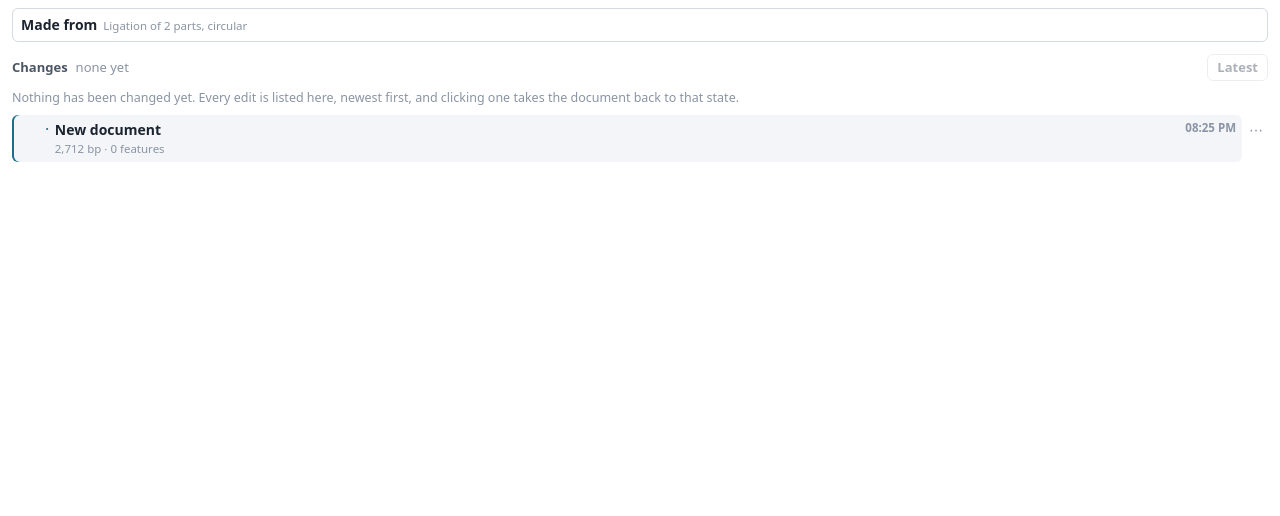
it: Made from, in the History tab (#67) › draws the product, its fragments and the documents they were cut from, level by level
Expected: the heading "Made from Ligation of 2 parts, circular" is shown, [21,15,247,34]
Step 1. Click the text "Made from" → (59, 25), box [21,15,97,35]
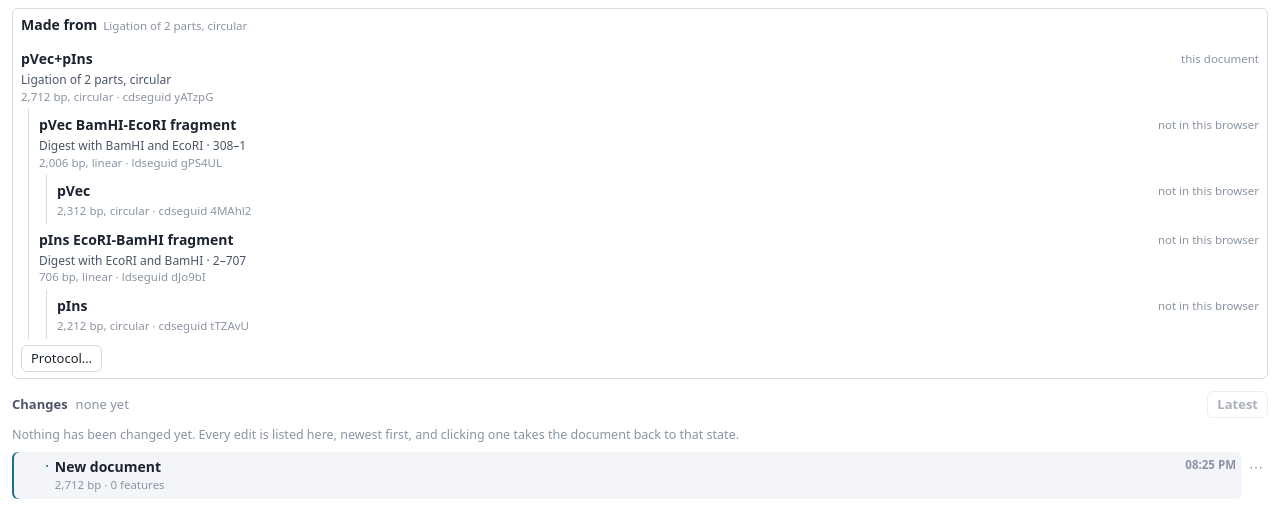
Expected: the text "pVec+pIns" is shown, [21,49,93,68]
Expected: the text "this document" is shown, [1181,51,1259,68]
Expected: the text "Digest with BamHI and EcoRI · 308–1" is shown once, [39,137,246,154]
